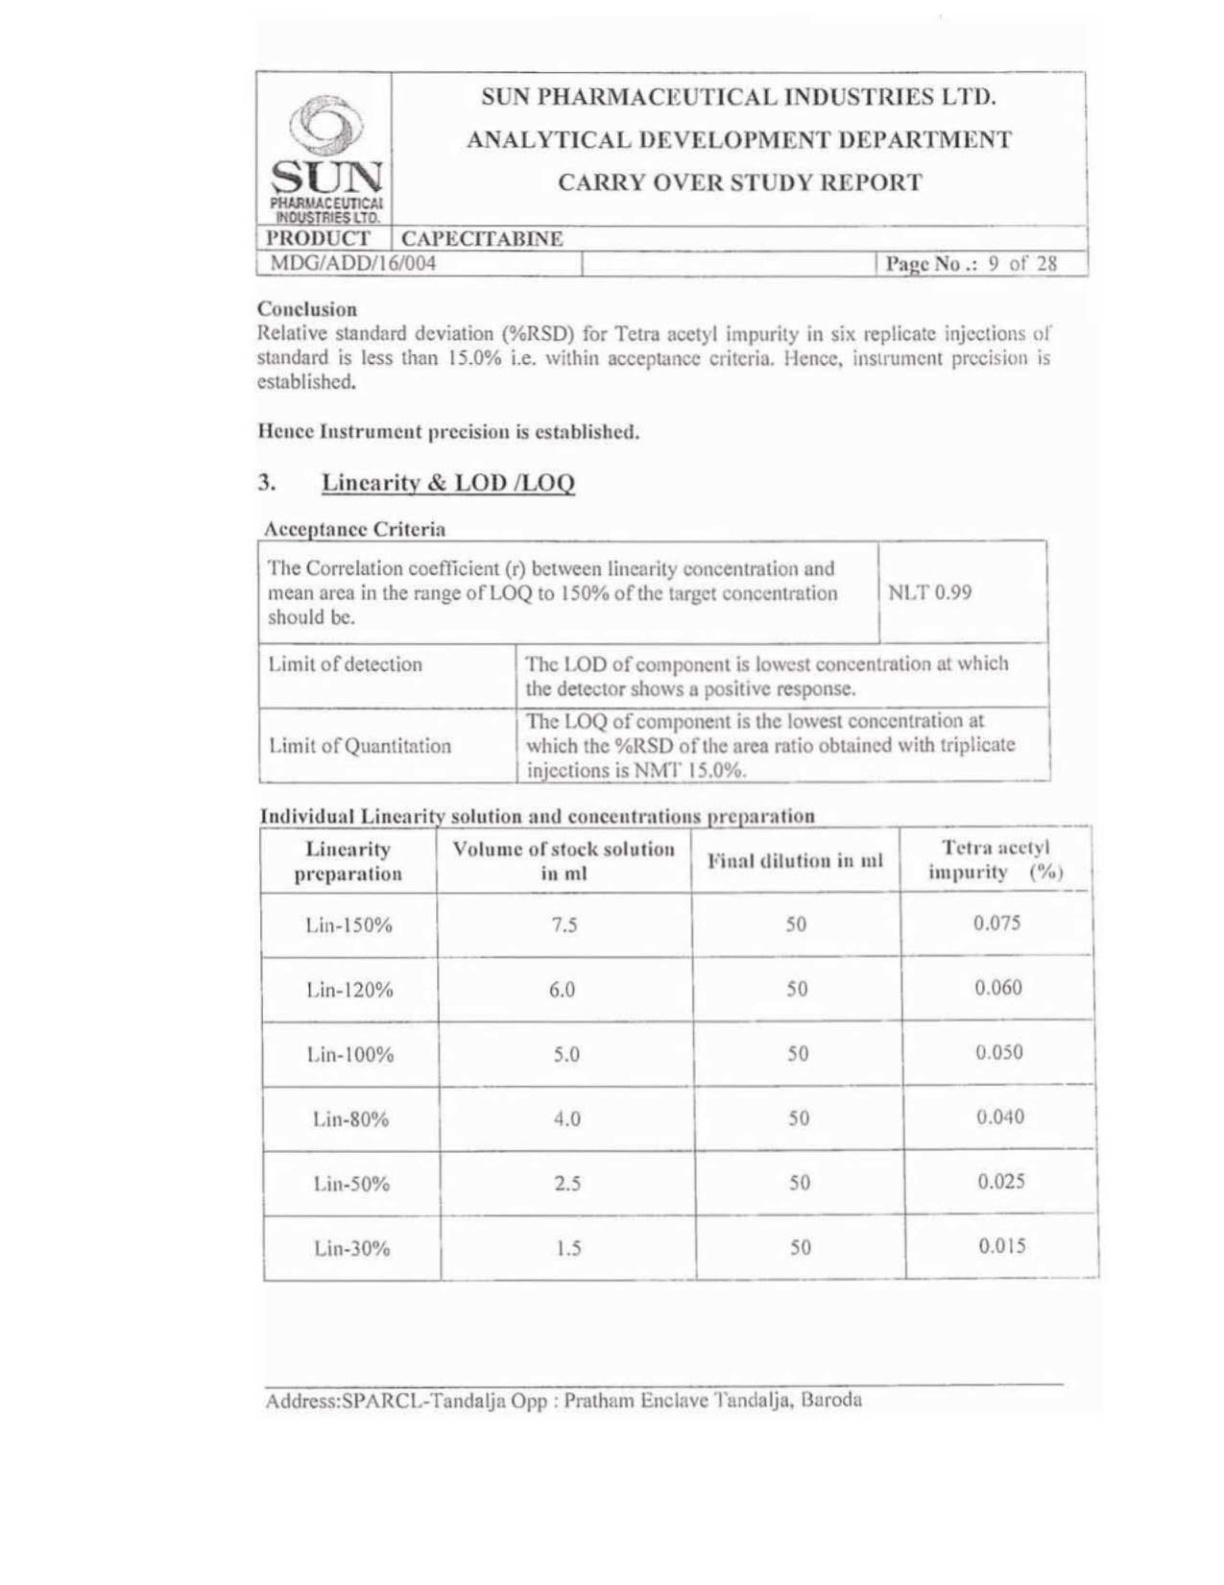full_lined: (258, 827, 1101, 1282), (255, 539, 1054, 784)
merged_cells: (255, 69, 1092, 279)
